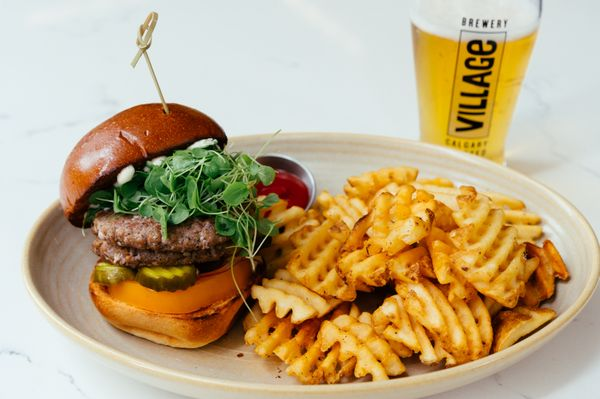soup: (60, 102, 302, 350)
sushi: (254, 153, 317, 214)
